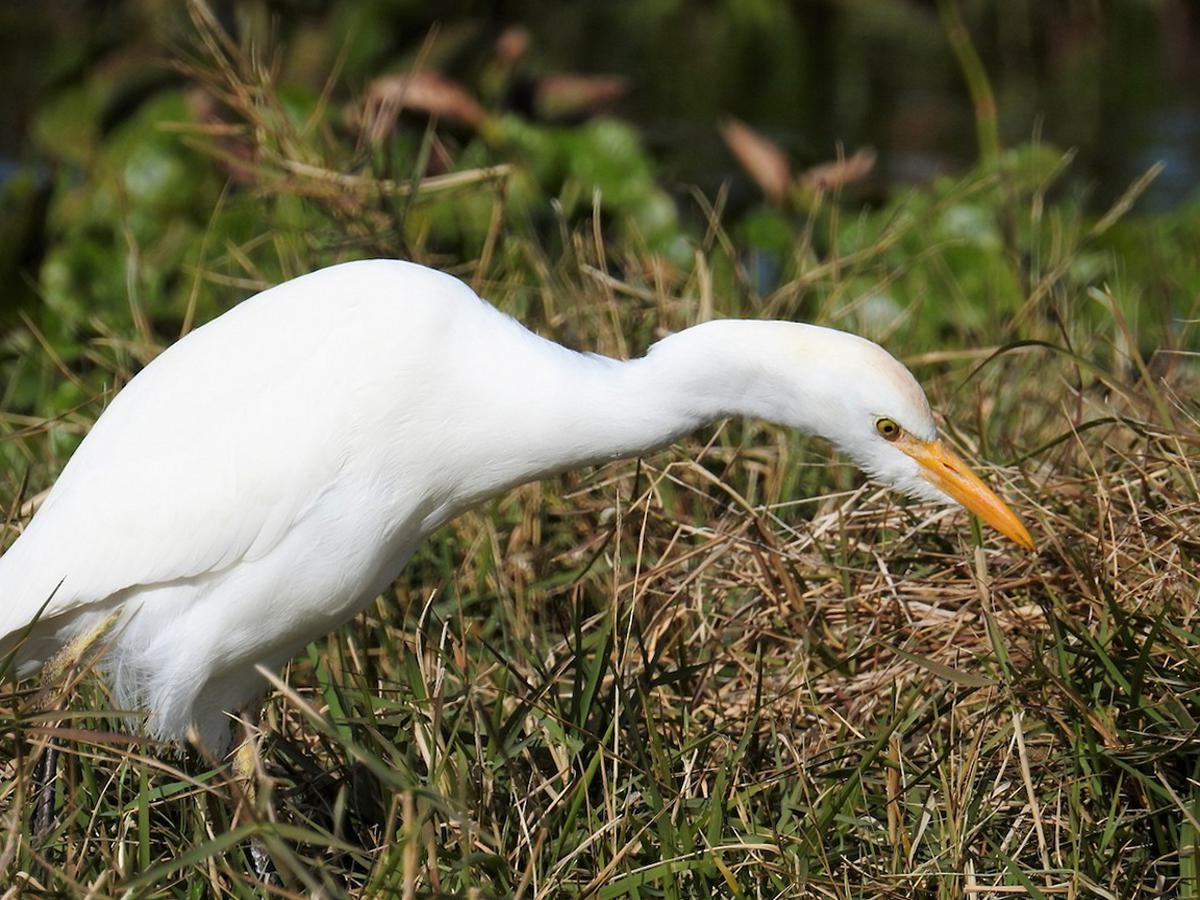egret: (1, 242, 1046, 797)
